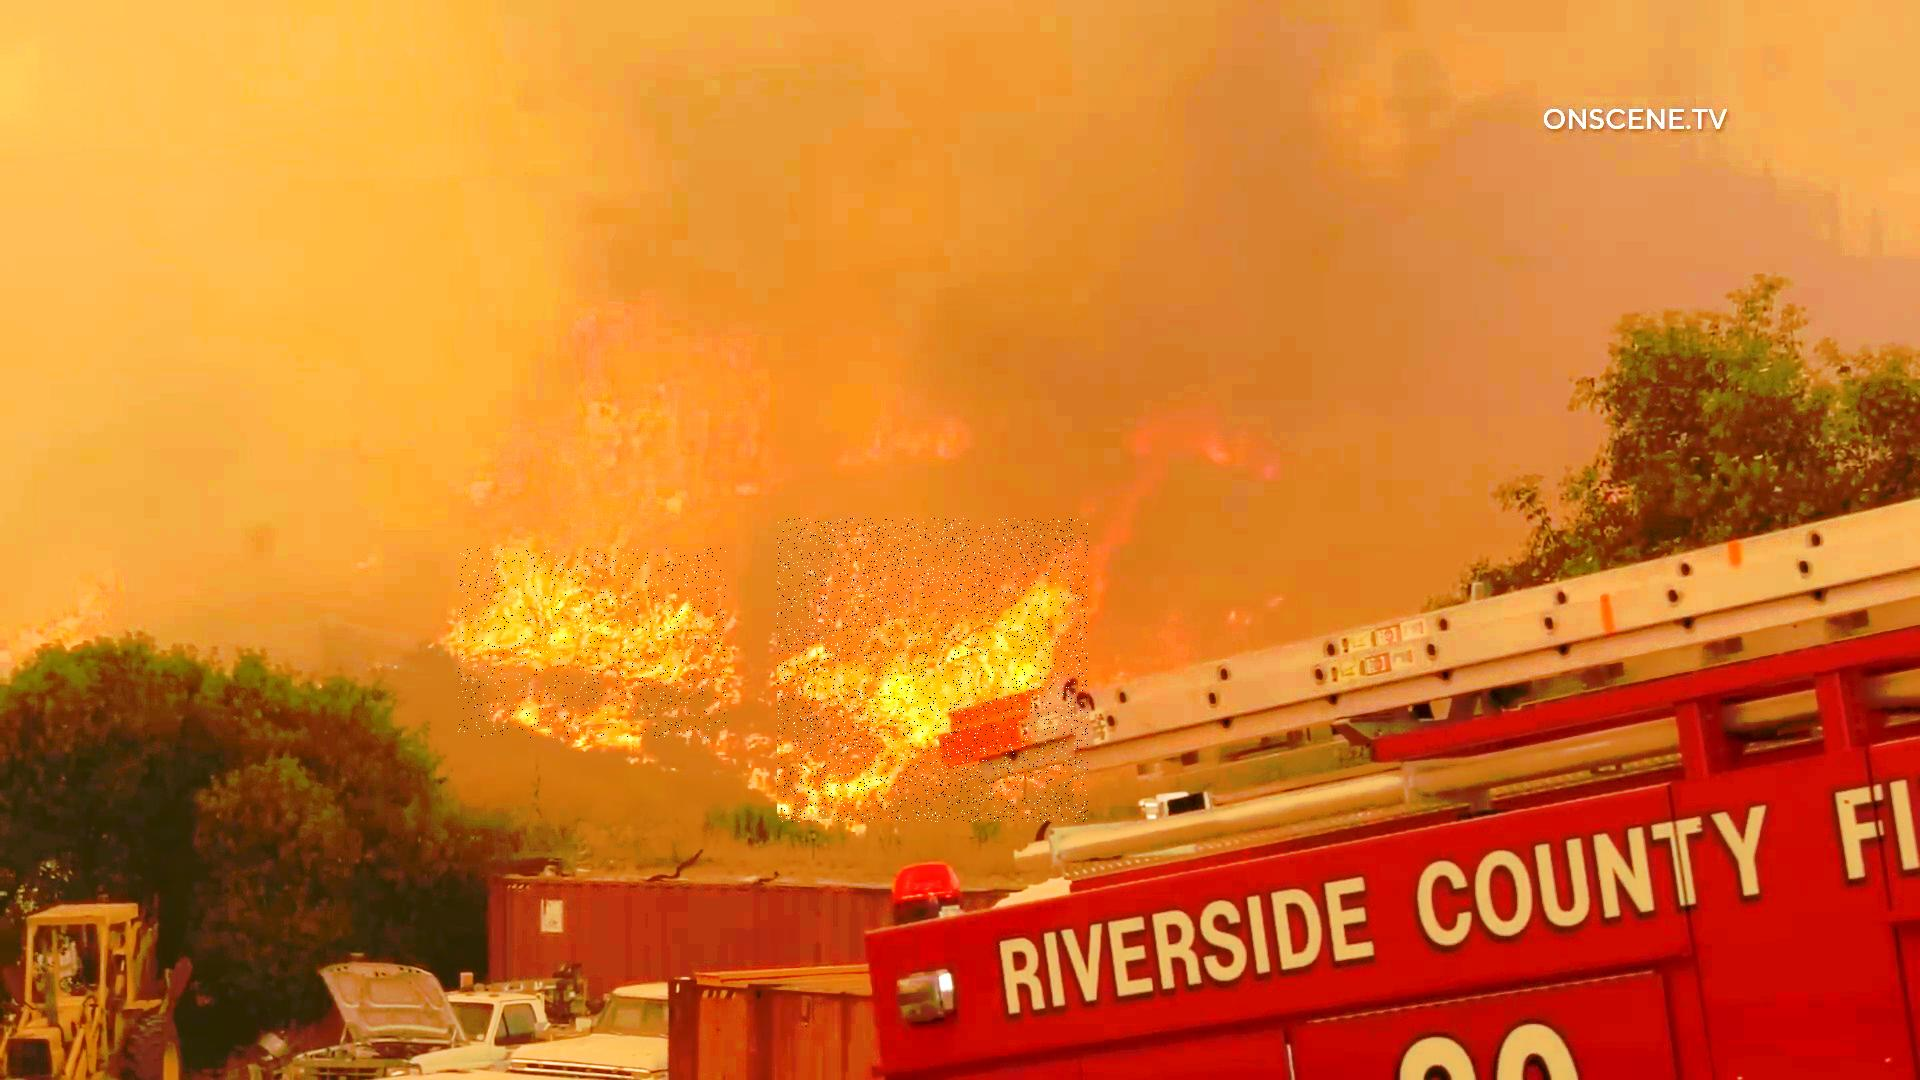fire: (778, 518, 1089, 822), (458, 549, 727, 738)
